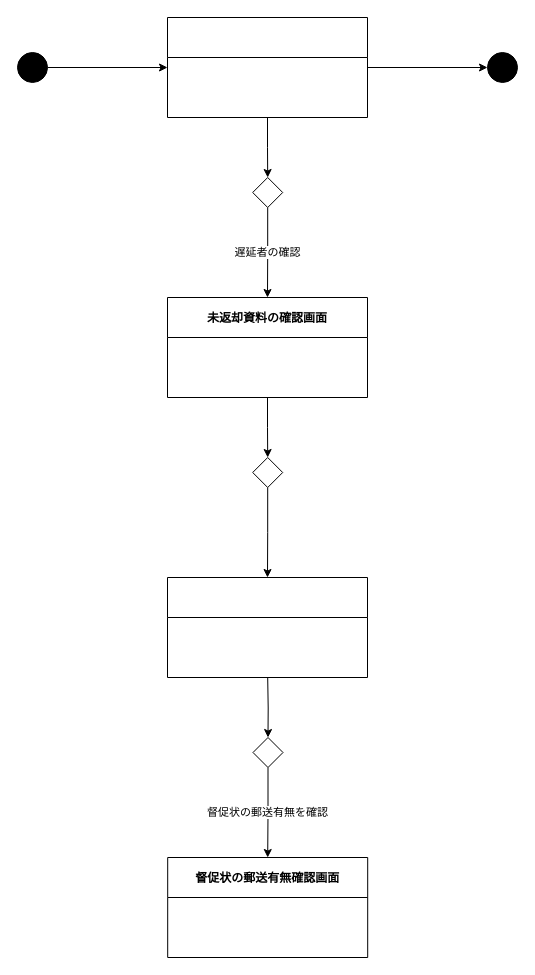
This 535x975 diagram has some shape labels left out. The shapes that lost their labels are listed below. From the top down, each one's centre as x and y in pixels, then its label:
At pixel 267 67: "延滞者対応メニュー画面".
At pixel 267 627: "未返却資料の詳細画面".
